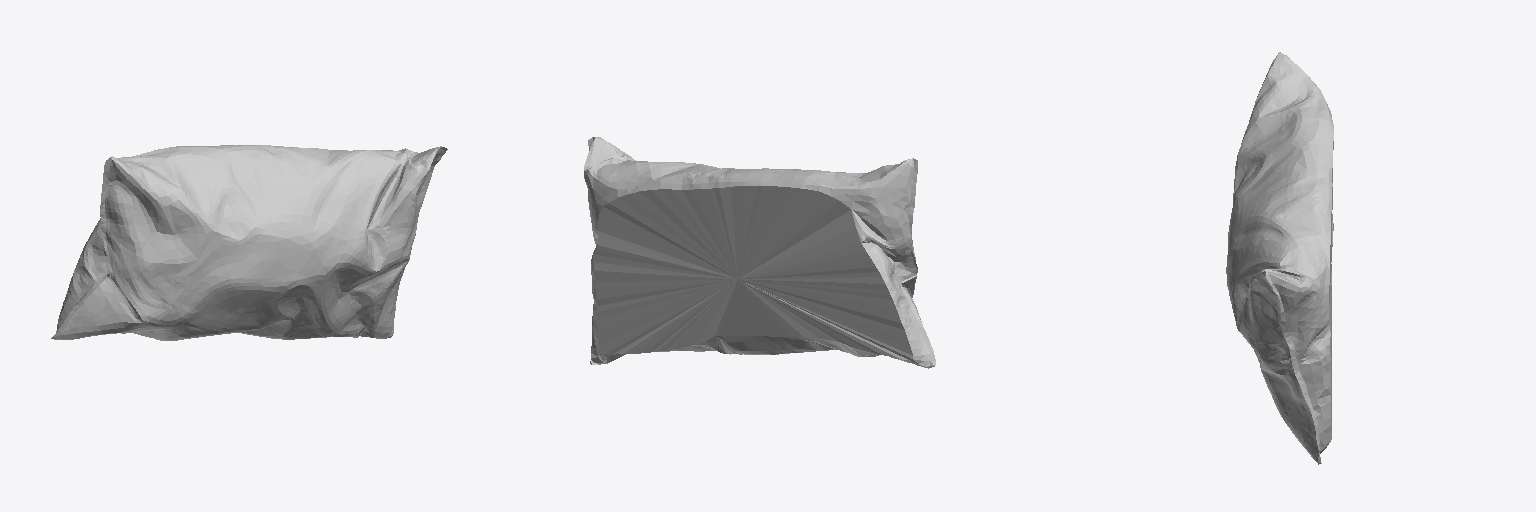
The model's file is cat19_pillow.obj.
3 renders of one model, left to right at view 1: azimuth 30°, elevation 25°; view 2: azimuth 150°, elevation 25°; view 3: azimuth 270°, elevation 25°, orthographic.
Visible parts, largest first — view 1: bag, seal; view 2: bag, seal; view 3: bag, seal.
Boxes of the visible parts, box(x1,y1,x2,y2) form: bag: box(54, 145, 444, 340); seal: box(51, 148, 447, 338); bag: box(584, 137, 934, 368); seal: box(588, 137, 935, 365); bag: box(1226, 52, 1333, 459); seal: box(1266, 52, 1321, 464).
Size of the model in its own units: 13.16 by 8.99 by 3.3.